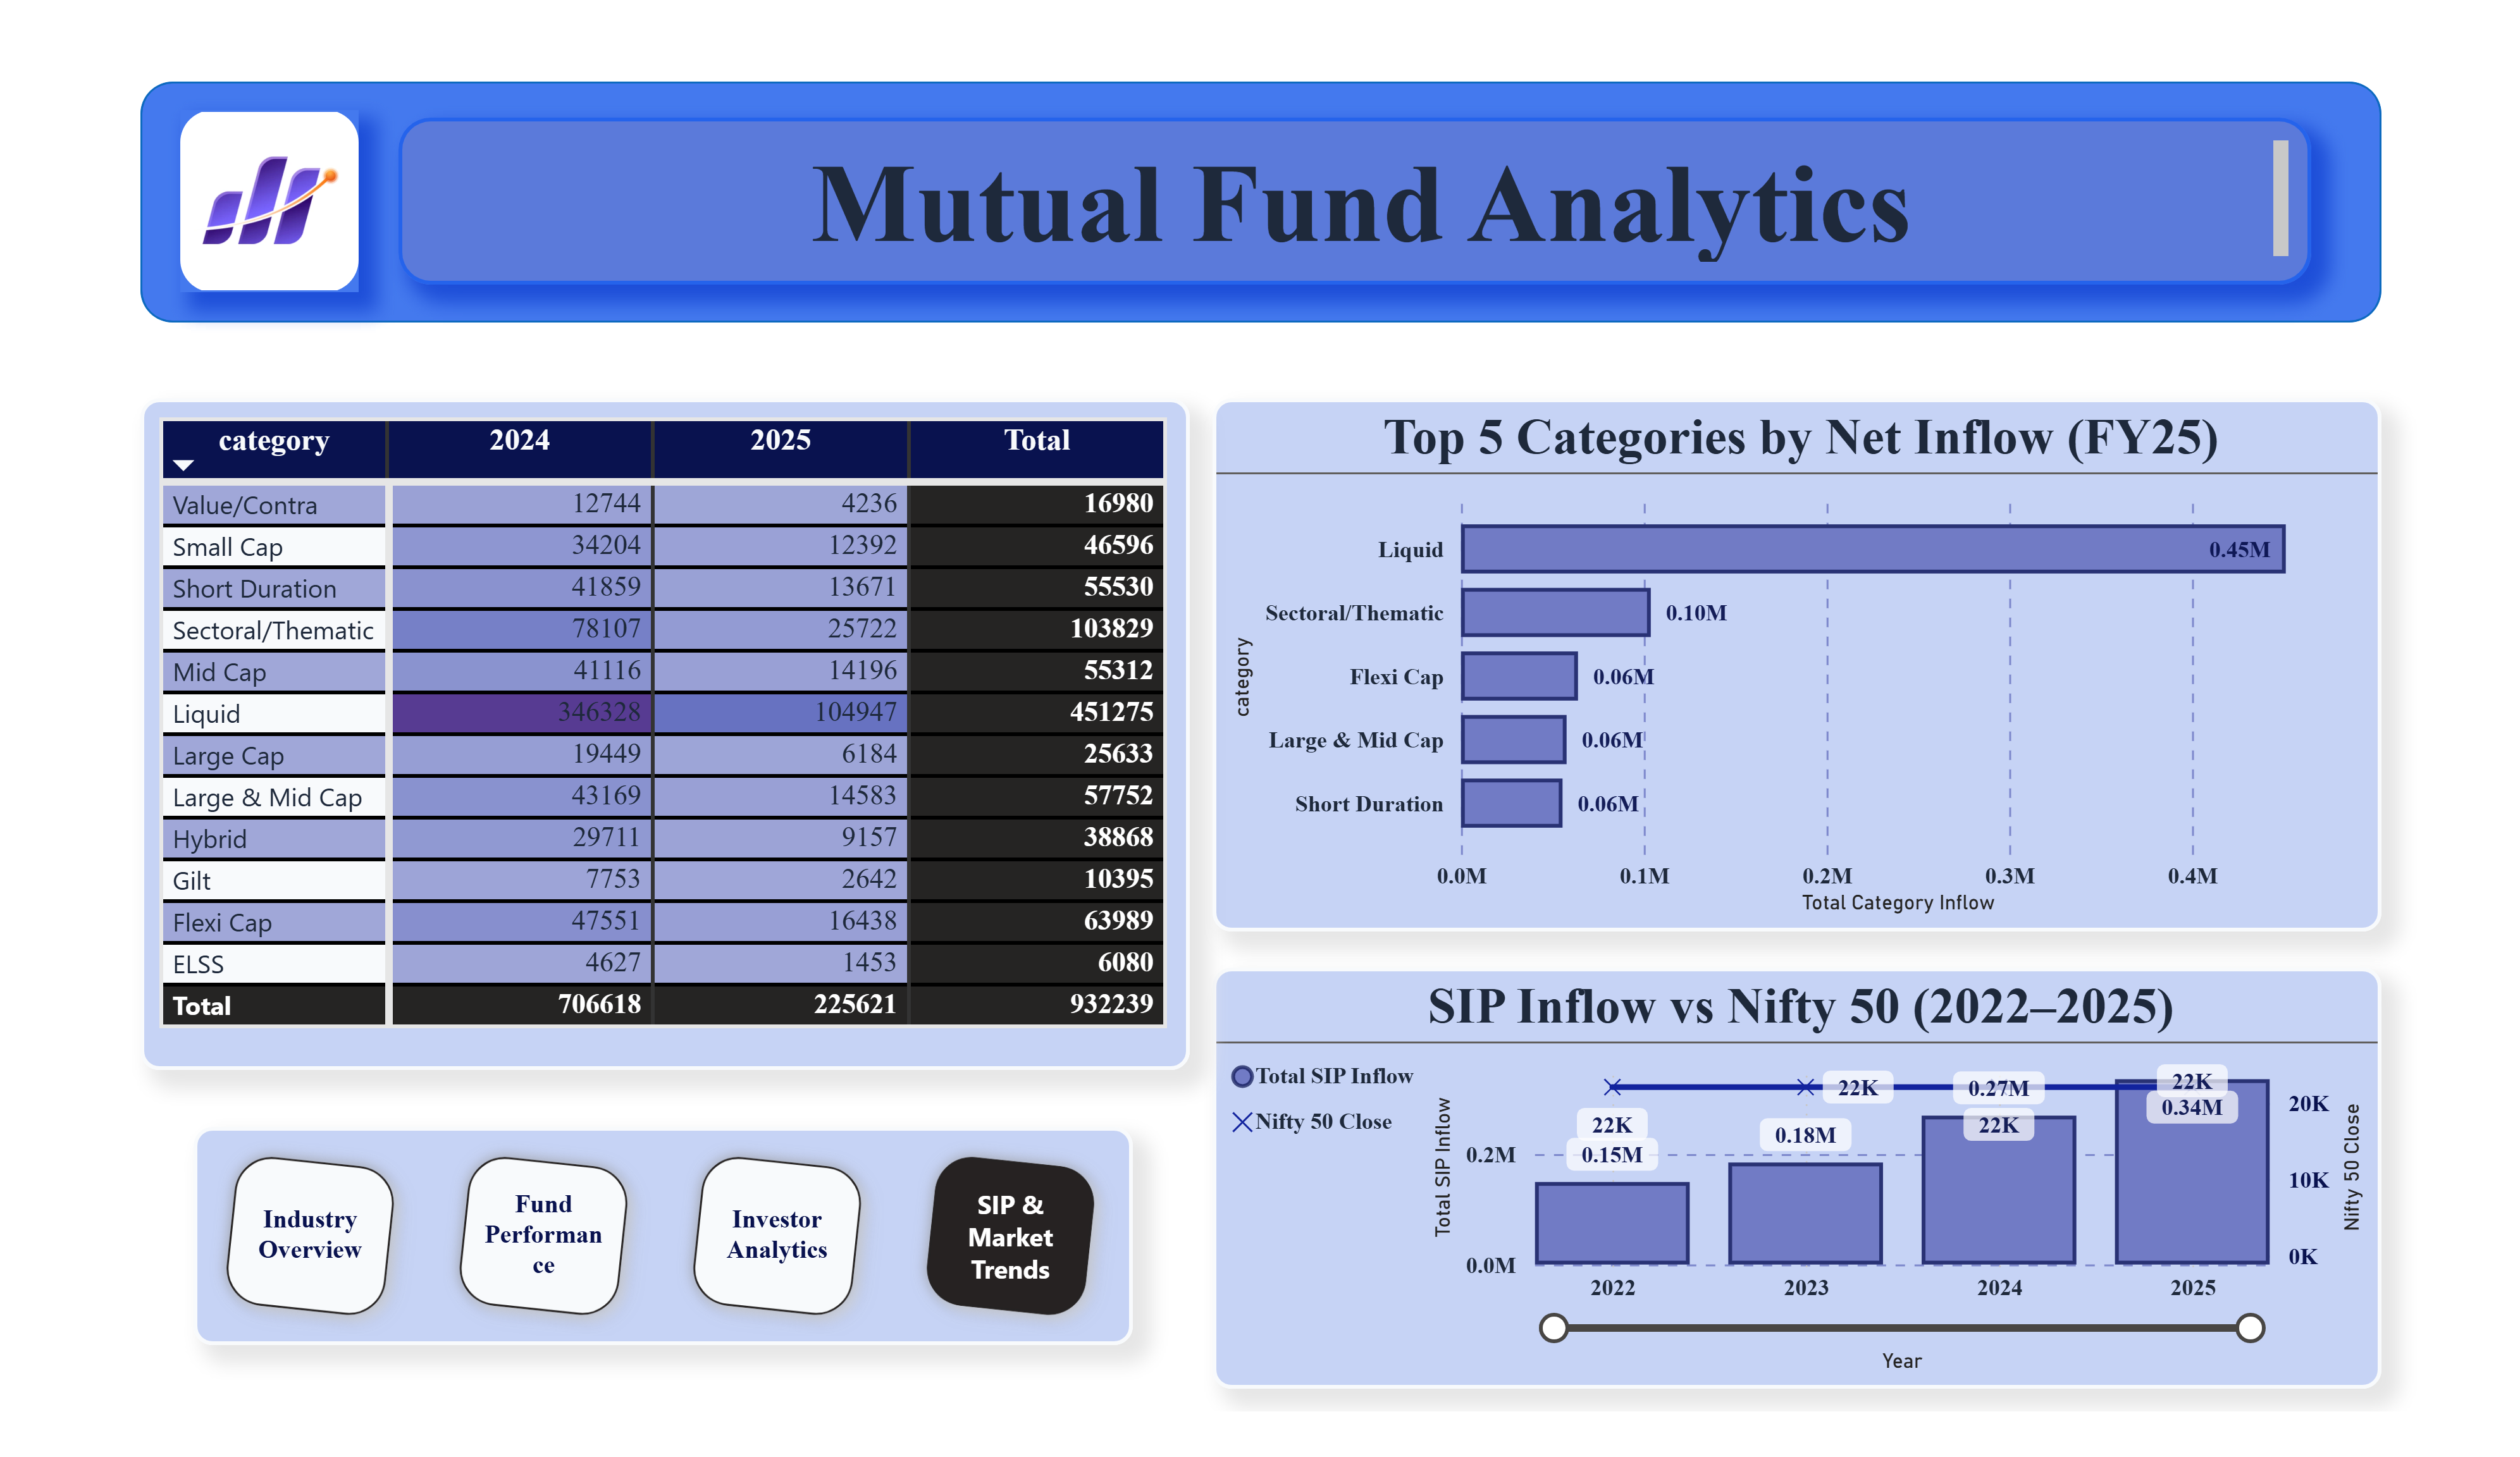

What the dashboard file says about the page in this screenshot:
{"tool":"powerbi","page":{"name":"SIP & Market Trends","canvas":[1280,720],"ordinal":3},"visuals":[{"type":"shape","box":[49.7,18.6,1181.8,127.3],"z":0},{"type":"image","box":[71.4,34.2,93.2,96.3],"z":1000},{"type":"textbox","box":[186.4,37.8,1007.7,88.3],"z":2000},{"type":"lineClusteredColumnComboChart","title":"SIP Inflow vs Nifty 50 (2022–2025)","fields":{"Category":["sip_clean.month.Variation.Date Hierarchy.Year"],"Y":["sip_clean.Total SIP Inflow"],"Y2":["benchmark_indices_clean.Nifty 50 Close"]},"box":[614.9,486.1,616.5,222.1],"z":3000},{"type":"pivotTable","fields":{"Rows":["category_inflows_clean.category"],"Columns":["category_inflows_clean.month.Variation.Date Hierarchy.Year"],"Values":["category_inflows_clean.Total Category Inflow"]},"box":[49.7,186.3,552.8,354.1],"z":4000},{"type":"clusteredBarChart","title":"Top 5 Categories by Net Inflow (FY25)","fields":{"Category":["category_inflows_clean.category"],"Y":["category_inflows_clean.Total Category Inflow"]},"box":[614.9,186.3,616.5,281.1],"z":4001},{"type":"pageNavigator","box":[77.6,569.9,495.4,114.9],"z":4002}]}

Visuals, with their boxes in screenshot pixels (x1, y1, x2, y2), scaled from the page's 1280x720 canvas onto the 2520x1457 screenshot:
shape: l=98, t=38, r=2424, b=295
image: l=140, t=69, r=324, b=264
textbox: l=367, t=77, r=2351, b=255
"SIP Inflow vs Nifty 50 (2022–2025)" lineClusteredColumnComboChart: l=1211, t=984, r=2424, b=1433
pivotTable - category_inflows_clean.category x category_inflows_clean.month.Variation.Date Hierarchy.Year: l=98, t=377, r=1186, b=1093
"Top 5 Categories by Net Inflow (FY25)" clusteredBarChart: l=1211, t=377, r=2424, b=946
pageNavigator: l=153, t=1153, r=1128, b=1386
